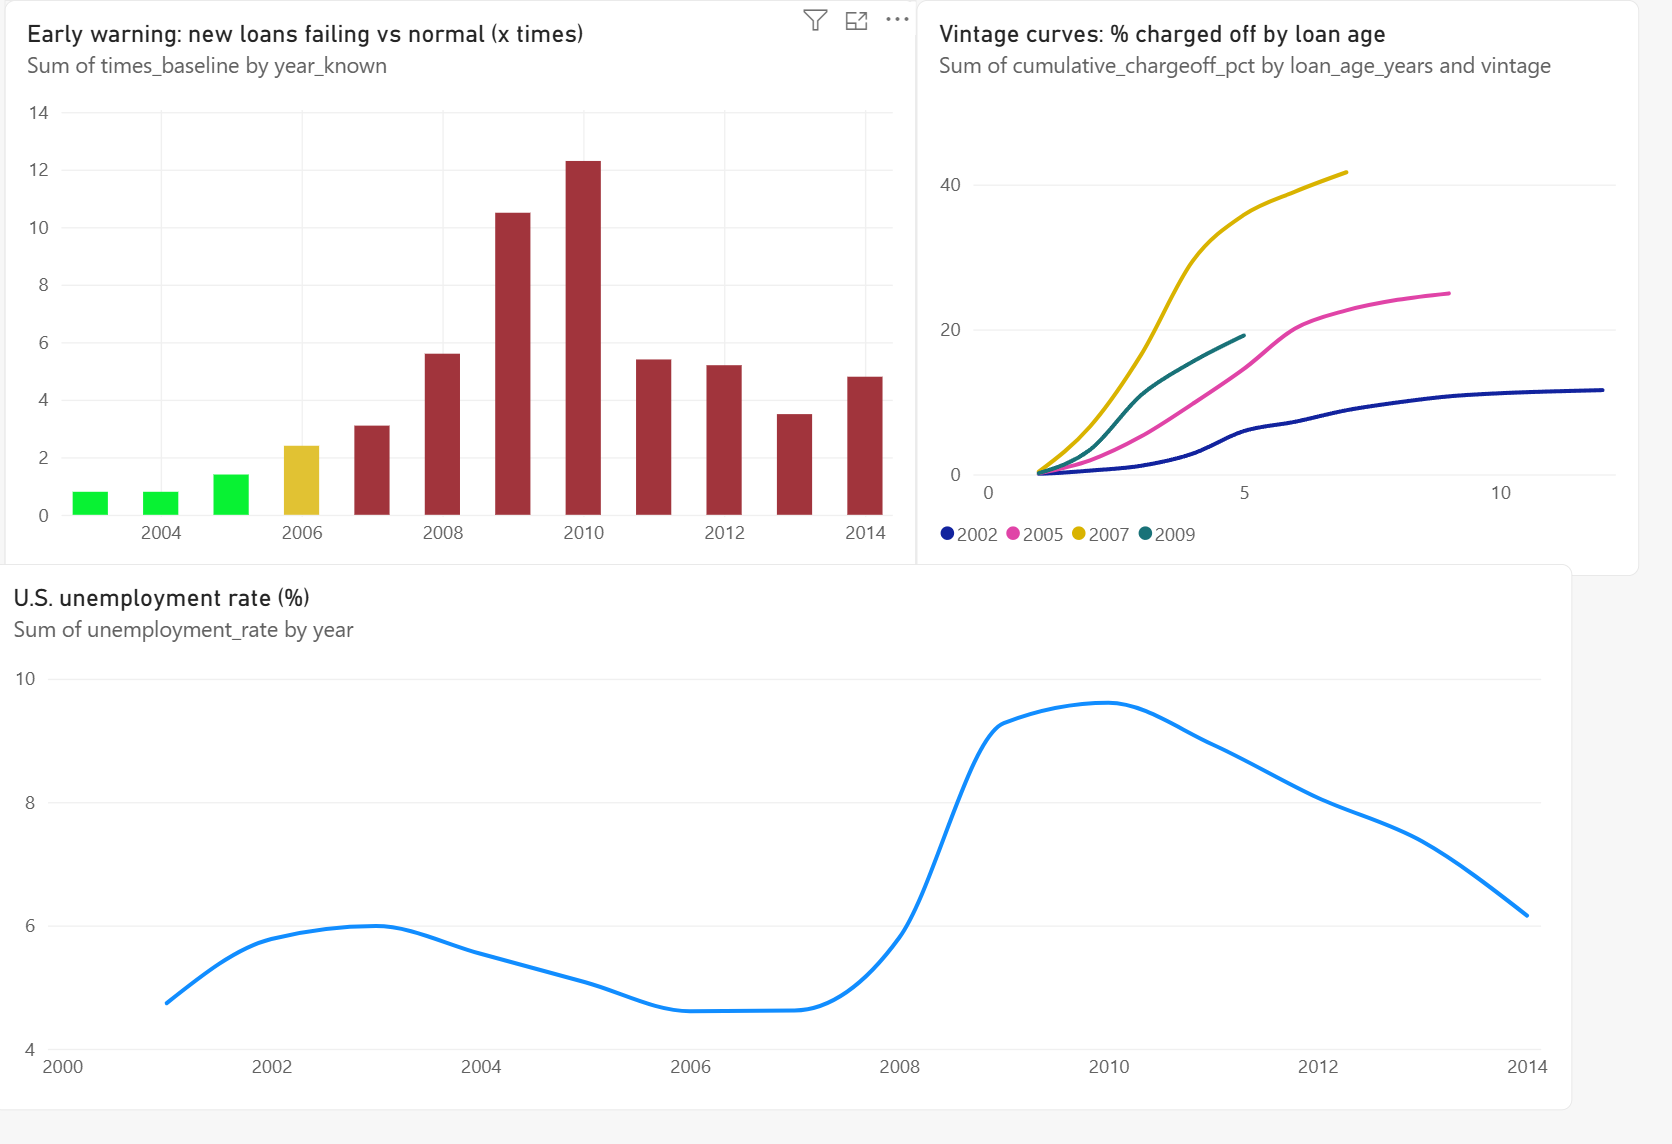

This screenshot's page, from the dashboard's own definition file:
{"tool":"powerbi","page":{"name":"Early Warnings","canvas":[1920,1080],"ordinal":2},"visuals":[{"type":"clusteredColumnChart","title":"Early warning: new loans failing vs normal (x times)","fields":{"Category":["early_warning_signals.year_known"],"Y":["Sum(early_warning_signals.times_baseline)"]},"box":[10,0,675.6,426.7],"z":0},{"type":"lineChart","title":"Vintage curves: % charged off by loan age","fields":{"Category":["vintage_curves.loan_age_years"],"Series":["vintage_curves.vintage"],"Y":["Sum(vintage_curves.cumulative_chargeoff_pct)"]},"box":[685.6,0,535.6,426.7],"z":1000},{"type":"lineChart","title":"U.S. unemployment rate (%)","fields":{"Category":["economic_indicators.year"],"Y":["Sum(economic_indicators.unemployment_rate)"]},"box":[0,417.8,1171.1,404.4],"z":2000}]}

Visuals, with their boxes on the page's 1920x1080 design canvas (x1, y1, x2, y2). These are canvas units, not pixel positions in the 1672x1144 screenshot, which may show the page scaled, cropped or inside an application window:
"Early warning: new loans failing vs normal (x times)" clusteredColumnChart: <bbox>10, 0, 686, 427</bbox>
"Vintage curves: % charged off by loan age" lineChart: <bbox>686, 0, 1221, 427</bbox>
"U.S. unemployment rate (%)" lineChart: <bbox>0, 418, 1171, 822</bbox>
